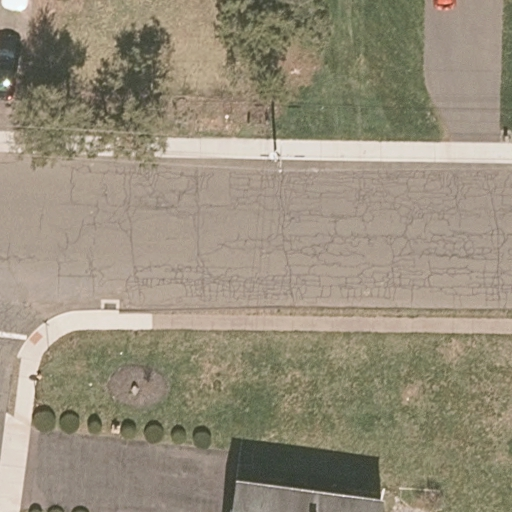DT: (261, 105, 305, 174)
